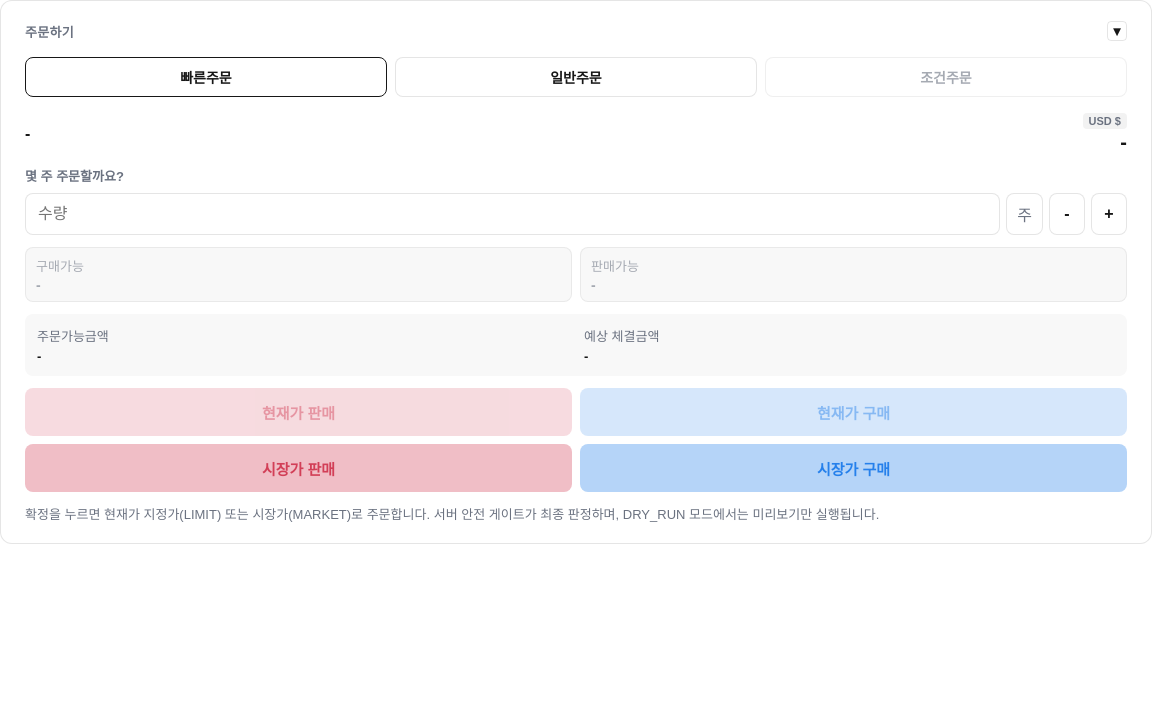
Test: OrderForm — general order › submits confirm:true and renders the SENT success message
Click the tab "일반주문". click: [576, 77]
box: x1=395 y1=57 x2=757 y2=97
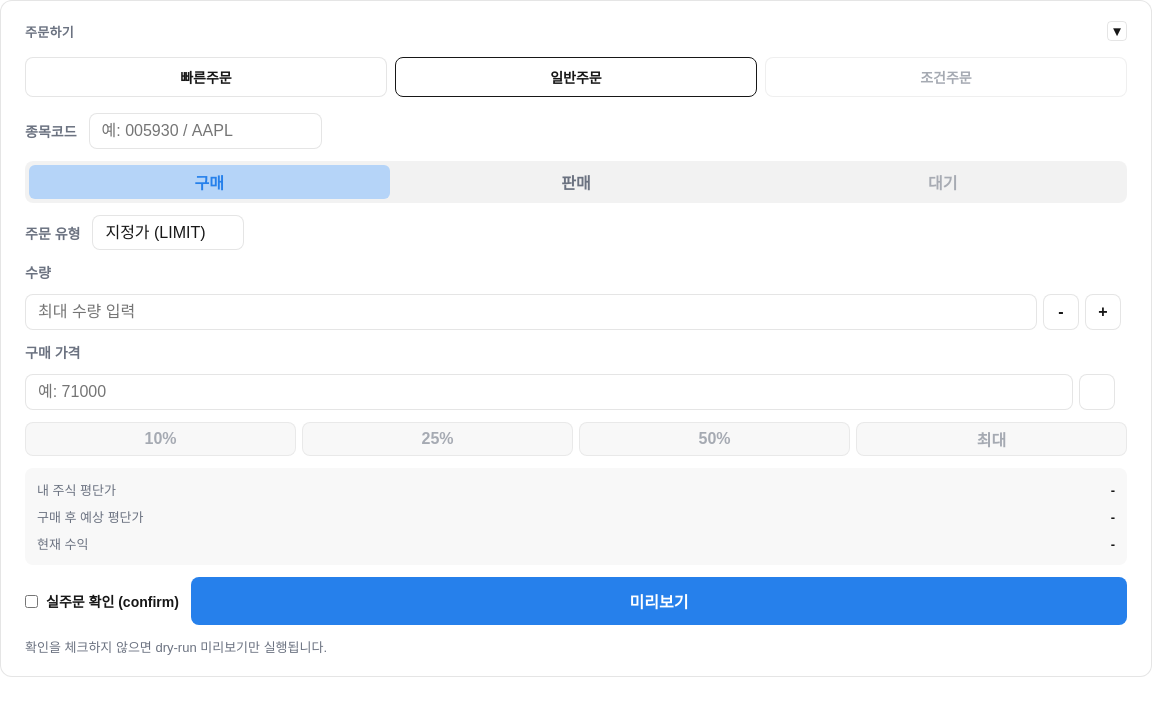
Type "005930" into the field labelled "종목코드". click: [205, 131]
box: x1=88 y1=113 x2=322 y2=149
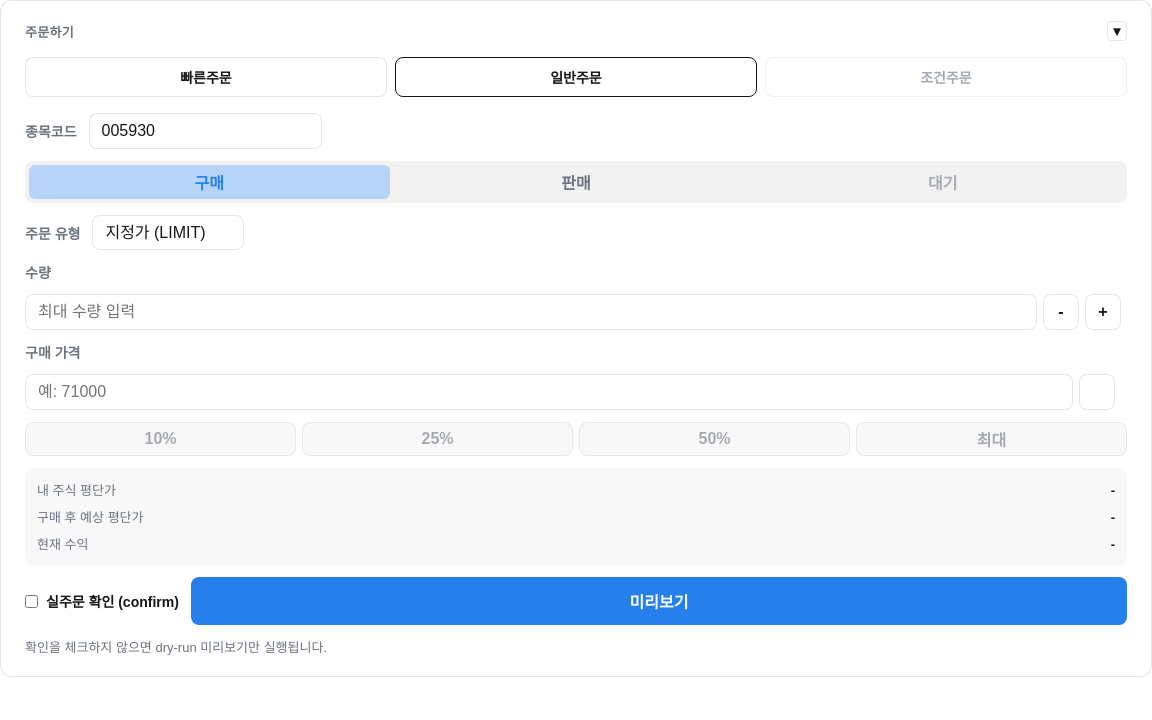
Type "10" into the field labelled "수량". click: [531, 312]
box: x1=25 y1=294 x2=1037 y2=330
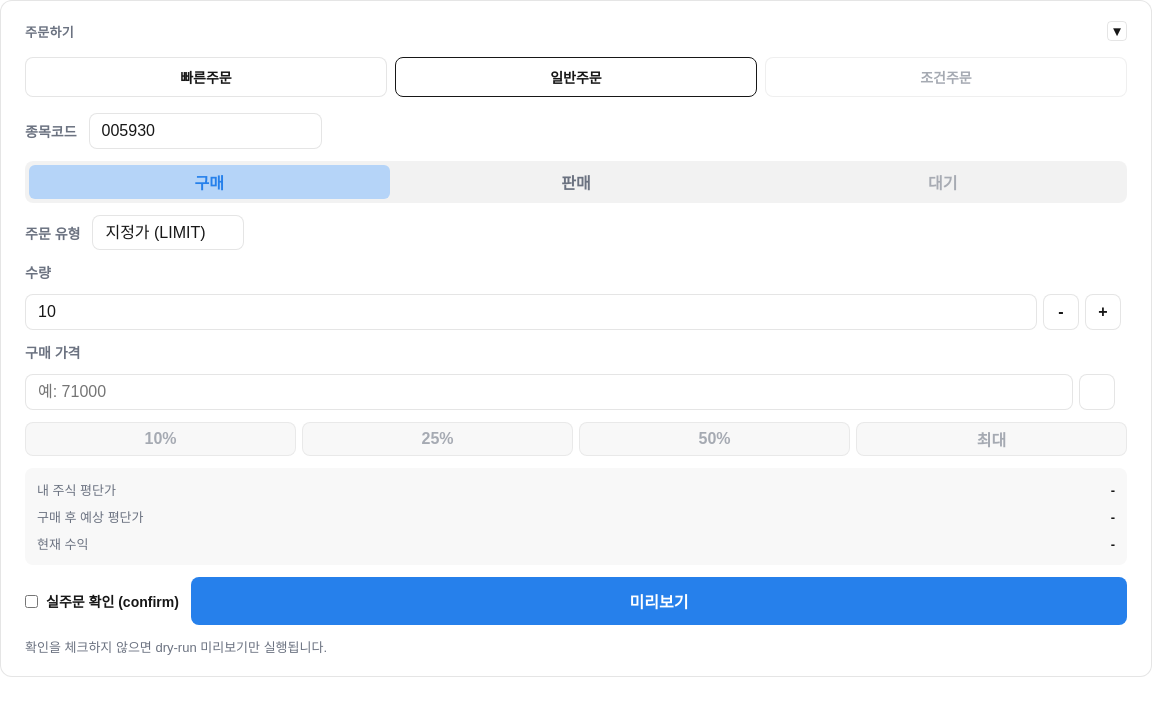
Type "71000" into the field labelled "구매 가격". click: [549, 392]
box: x1=25 y1=374 x2=1073 y2=410
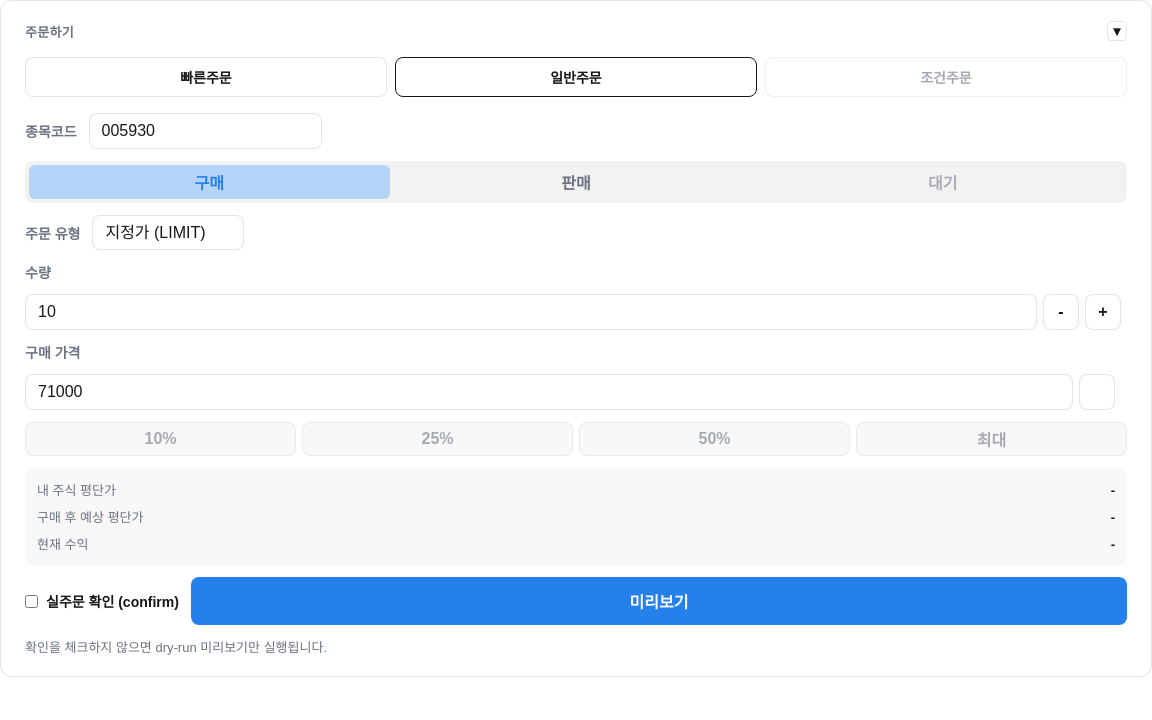
Click the checkbox labelled "실주문 확인 (confirm)". click: [32, 601]
box: x1=25 y1=594 x2=38 y2=608
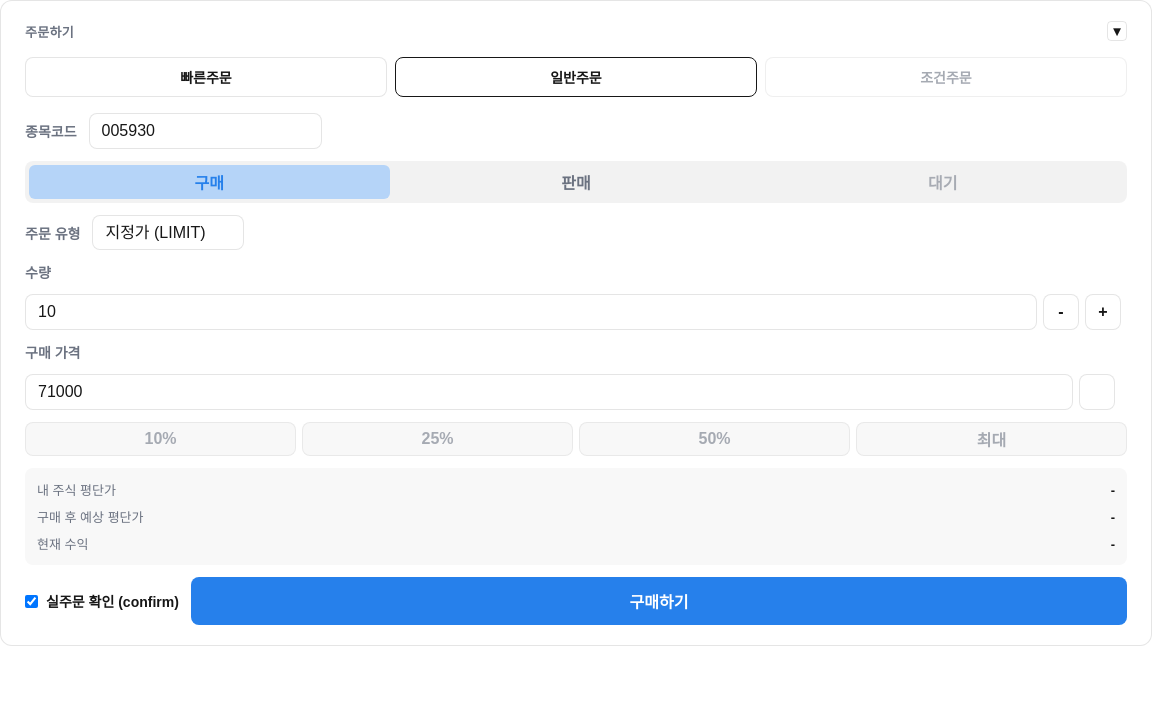
Click the button "구매하기". click: [659, 601]
box: x1=191 y1=577 x2=1127 y2=625
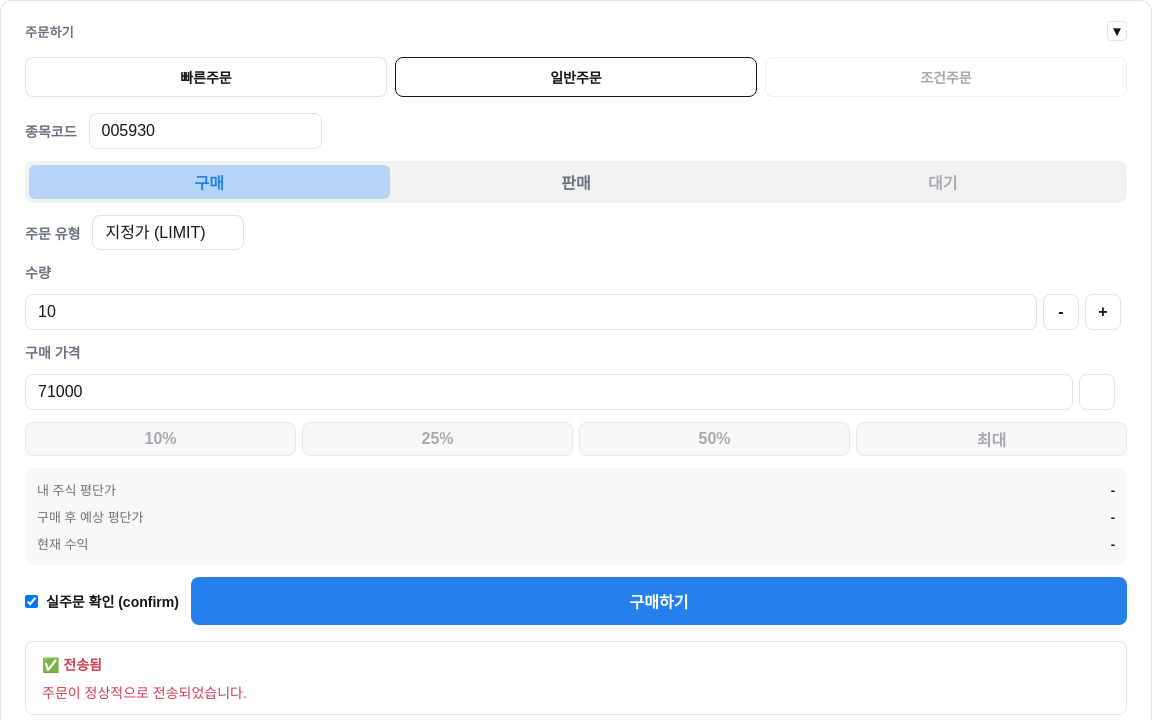
Result: the text "✅ 전송됨" is shown at x1=42 y1=657 x2=102 y2=673
Result: the text "주문이 정상적으로 전송되었습니다." is shown at x1=42 y1=685 x2=247 y2=701
